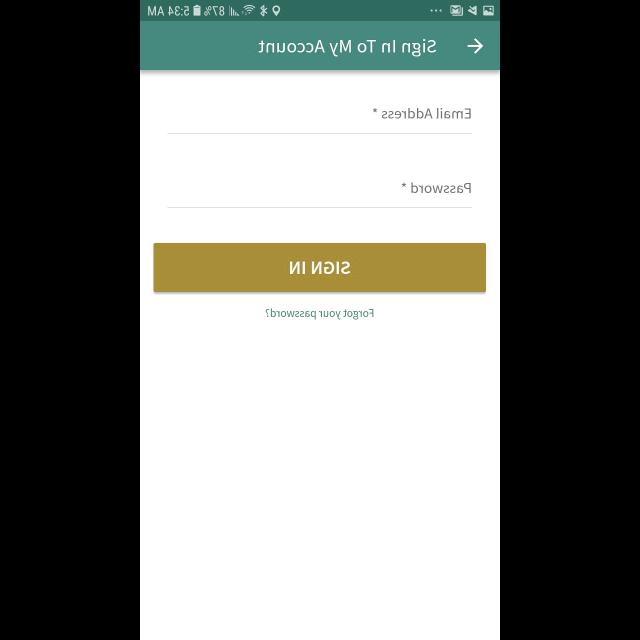icon: (467, 38, 483, 54)
input: (168, 183, 472, 209), (168, 108, 472, 134)
text: (258, 39, 436, 57), (265, 308, 373, 320), (373, 108, 471, 119), (402, 182, 471, 194)
textbutton: (154, 244, 486, 292)
uppertaskbar: (140, 1, 500, 22)
